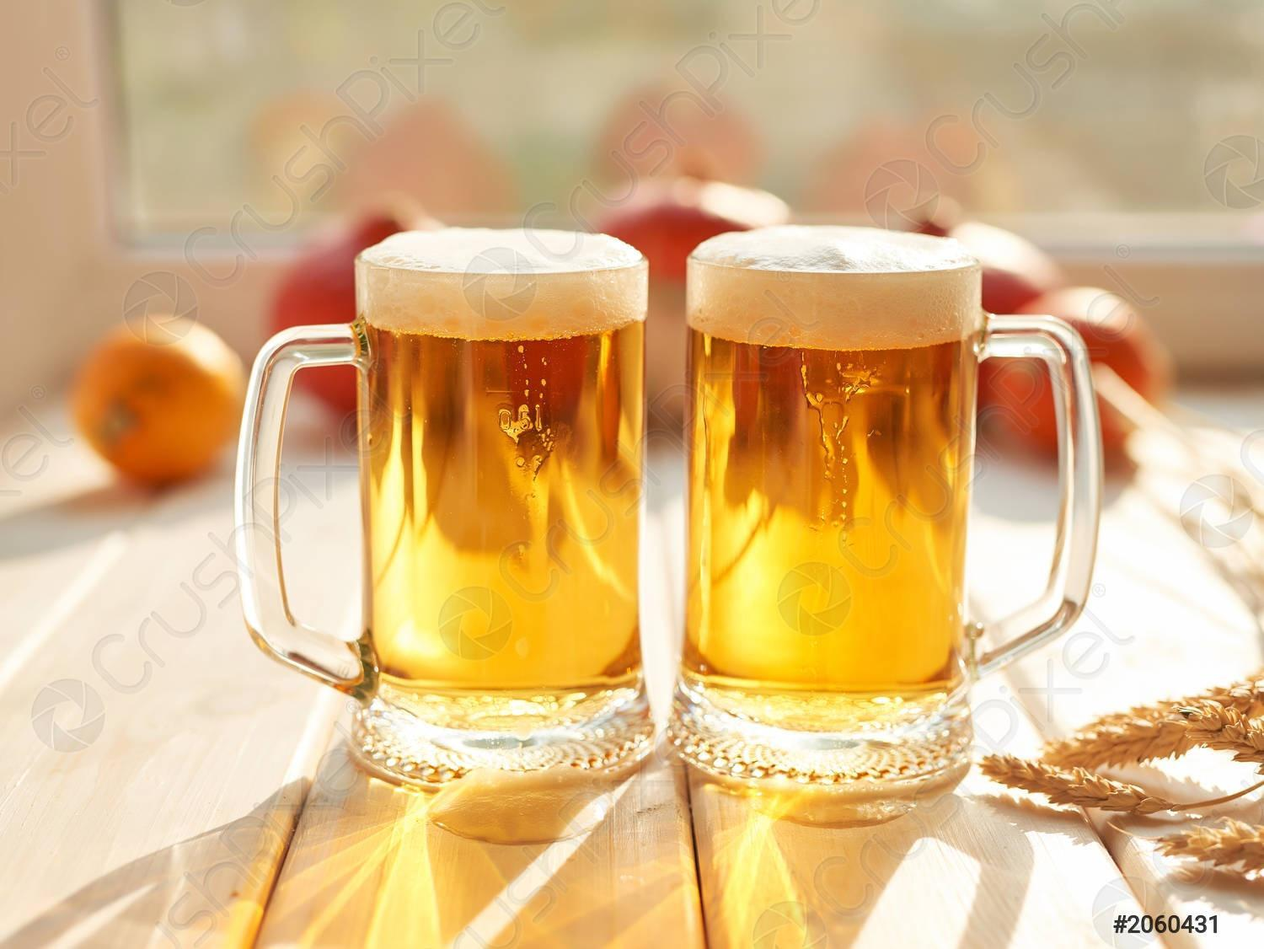glass-mug: (670, 220, 1115, 823), (227, 227, 667, 795)
